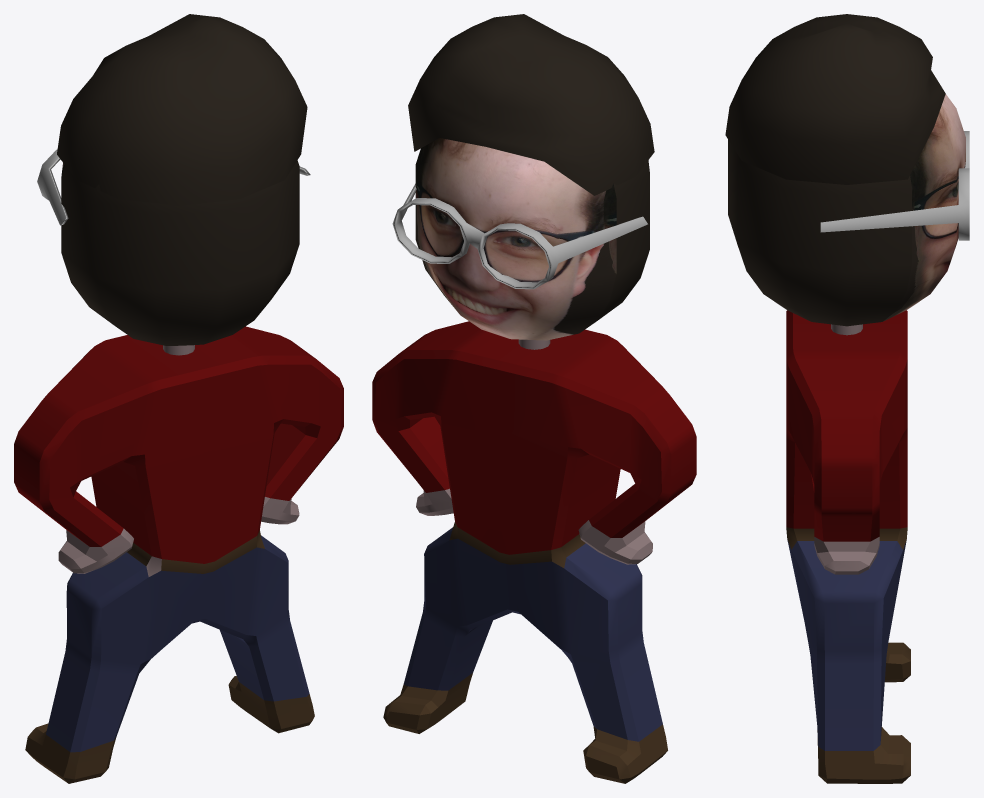
The model's file is Tim.fbx.
3 views of the same model, side by side, from view 1: azimuth 30°, elevation 25°; view 2: azimuth 150°, elevation 25°; view 3: azimuth 270°, elevation 25° (orthographic).
Parts seen in each view (by area): view 1: pCube1, pSphere2, pSphere1, pCylinderShape1; view 2: pCube1, pSphere1, pSphere2, pCylinderShape1; view 3: pCube1, pSphere1, pSphere2, pCylinderShape1.
Part boxes in pixels (x1,y1,x2,y2): pCube1: (14,326,343,783); pSphere2: (57,14,307,205); pSphere1: (61,160,299,345); pCylinderShape1: (37,149,310,225); pCube1: (372,321,696,783); pSphere1: (415,138,649,340); pSphere2: (408,14,654,195); pCylinderShape1: (392,183,647,289); pCube1: (786,310,910,783); pSphere1: (728,94,965,326); pSphere2: (725,14,945,184); pCylinderShape1: (820,131,969,240).
Bounding box in the file's own units: 2.87 × 6.47 × 2.01.
